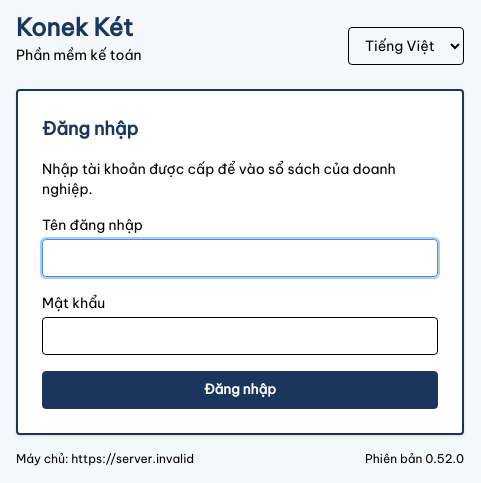
luồng đăng nhập › phiên hạn chế đưa thẳng tới màn hình đăng ký thiết bị 2FA
In the field labelled "Tên đăng nhập": (240, 258) [42,239,438,277], type "ke_toan"
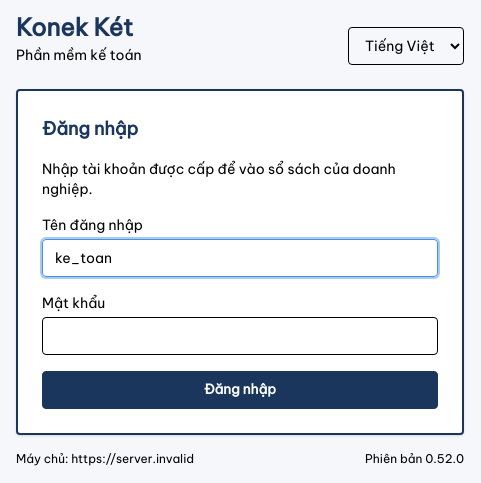
In the password field labelled "Mật khẩu": (240, 336) [42,317,438,355], type "mat-khau-dung"
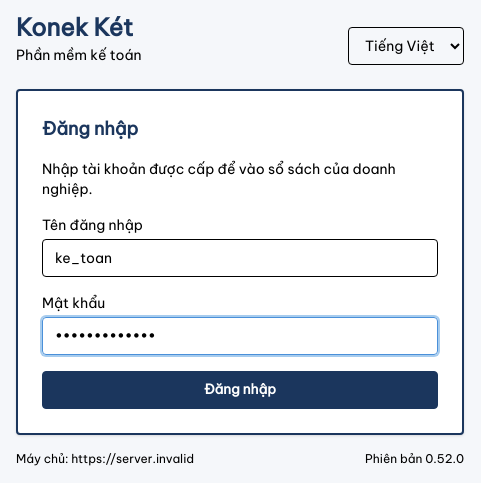
Click the button "Đăng nhập": click(240, 390) [42,371,438,409]
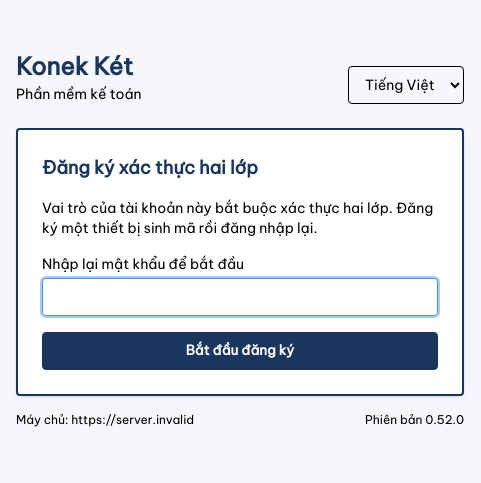
Check: the heading "Đăng ký xác thực hai lớp" is shown, box [42,156,258,179]
